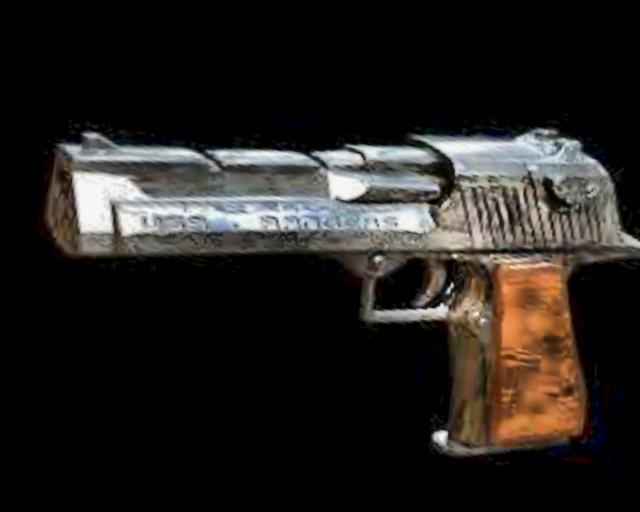pistol: (3, 10, 640, 478)
